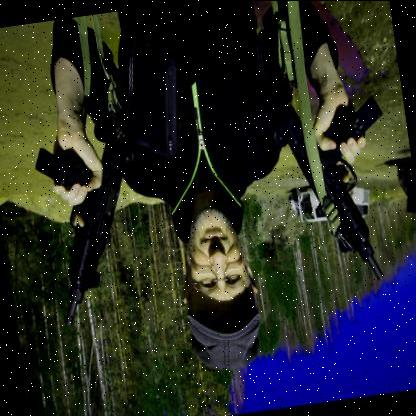rifle: (25, 105, 156, 330), (265, 88, 405, 294)
